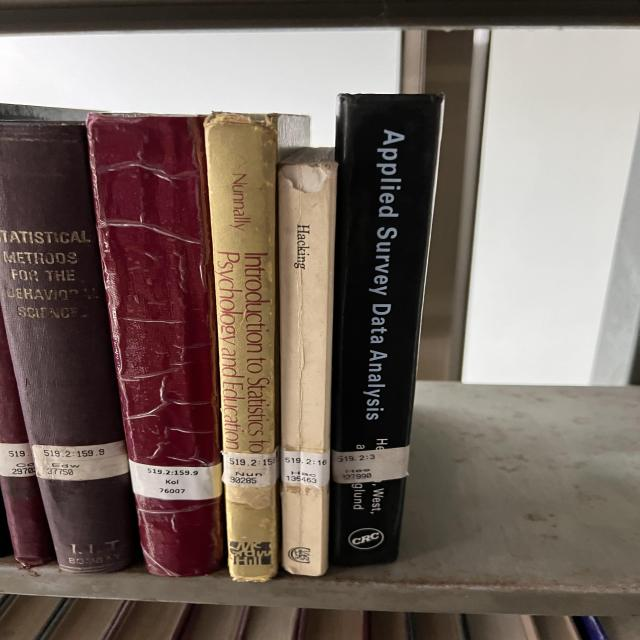Book: (87, 114, 223, 576), (0, 121, 138, 572), (330, 94, 443, 566), (205, 112, 308, 581), (278, 148, 337, 576), (0, 310, 55, 566)
Label: (32, 440, 128, 481), (128, 460, 222, 500), (332, 446, 410, 484), (222, 451, 278, 488), (282, 450, 330, 486), (0, 442, 35, 478)
